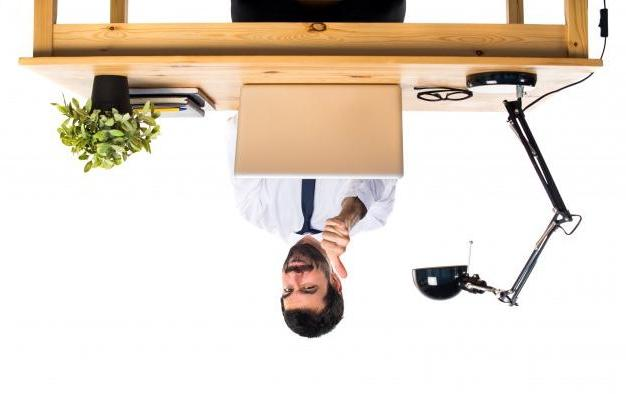thumbsdown: (321, 219, 350, 279)
